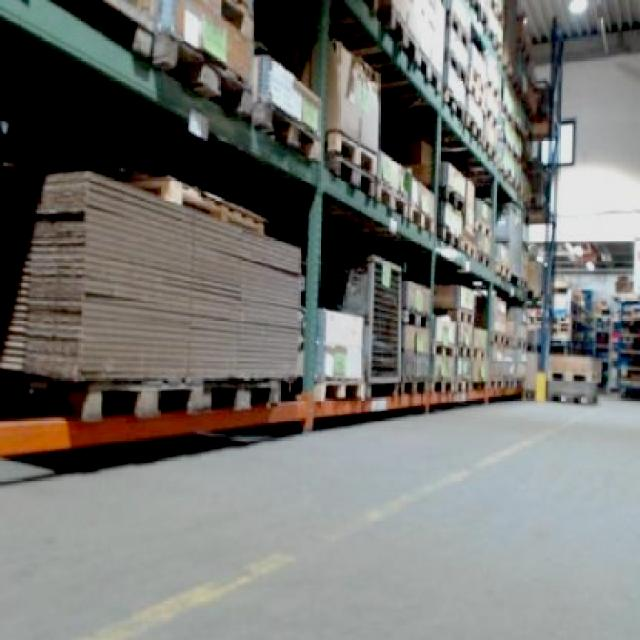floor: (0, 395, 637, 637)
pallets: (0, 169, 298, 417)
